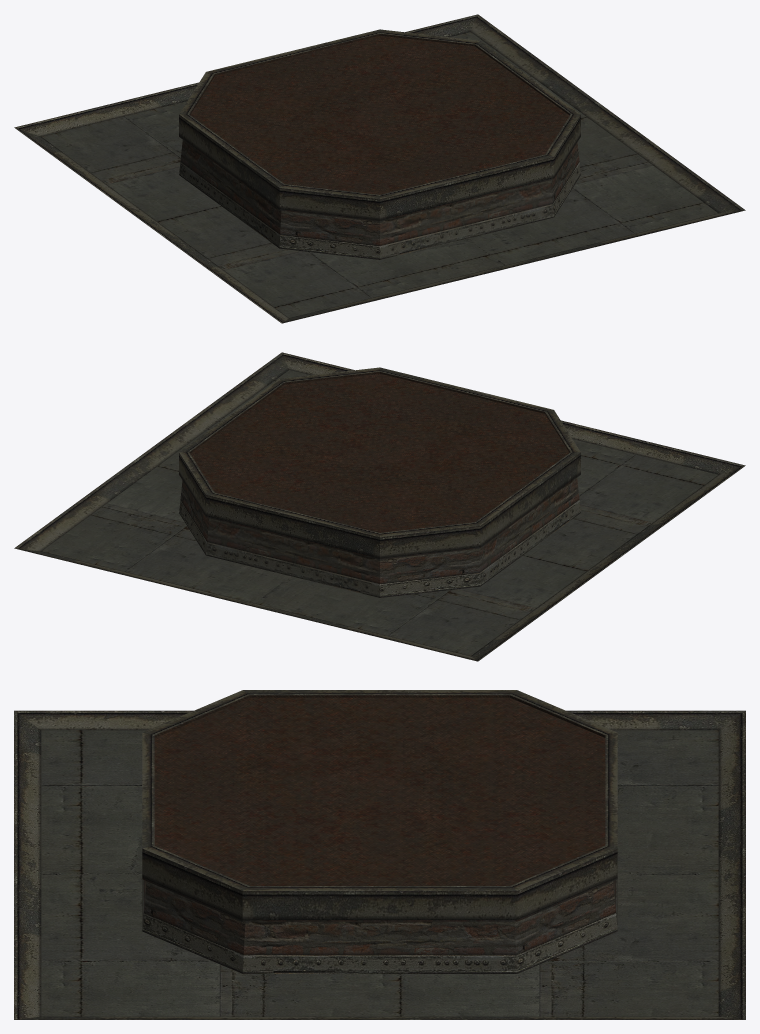
File: structure_piece_rg_2.dae
3 views of the same model, one above another, from view 1: azimuth 30°, elevation 25°; view 2: azimuth 150°, elevation 25°; view 3: azimuth 270°, elevation 25° (orthographic). The views are drawn at different scales.
Parts seen in each view (by area): view 1: structure_piece_rg_2; view 2: structure_piece_rg_2; view 3: structure_piece_rg_2.
Part boxes in pixels (bbox=[...]): structure_piece_rg_2: bbox=[14, 14, 745, 323]; structure_piece_rg_2: bbox=[14, 352, 745, 661]; structure_piece_rg_2: bbox=[14, 690, 745, 1019].
Size of the model in its own units: 8 by 8 by 1.
3 materials, 3 textured.
